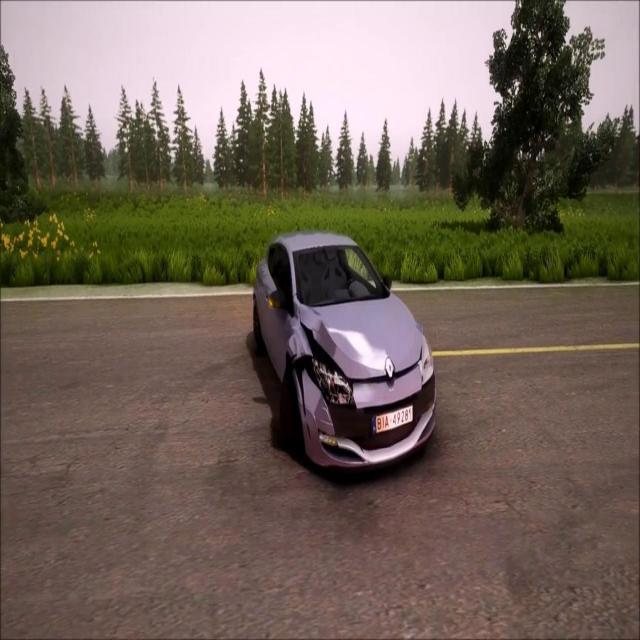accident: (251, 229, 441, 481)
